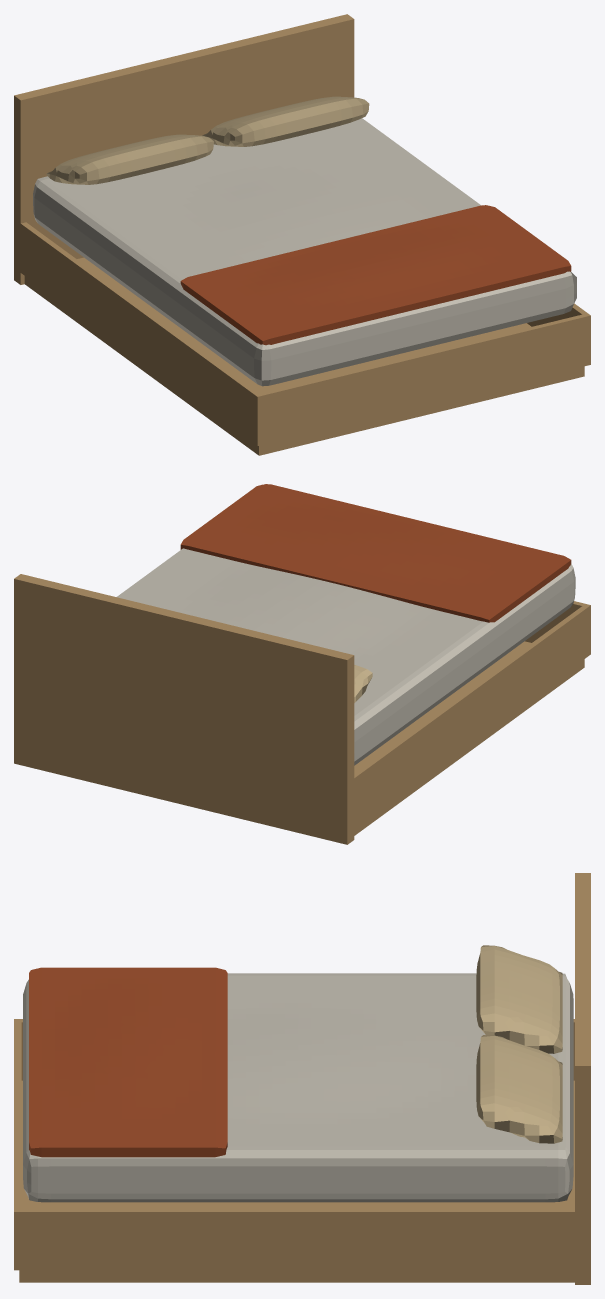
File: SAB-PLT-queen.glb
3 views of the same model, one above another, from view 1: azimuth 30°, elevation 25°; view 2: azimuth 150°, elevation 25°; view 3: azimuth 270°, elevation 25° (orthographic). The views are drawn at different scales.
Parts seen in each view (by area): view 1: mattress:pbr, head:pbr, throw:pbr, foot:pbr, rail-l:pbr, plinth:pbr, pillow-l:pbr, pillow-r:pbr, rail-r:pbr; view 2: head:pbr, mattress:pbr, throw:pbr, rail-l:pbr, plinth:pbr, pillow-l:pbr; view 3: mattress:pbr, throw:pbr, rail-r:pbr, plinth:pbr, pillow-r:pbr, pillow-l:pbr, head:pbr, foot:pbr.
Part boxes in pixels (x1,y1,x2,y2): mattress:pbr: (33,118,576,386); head:pbr: (14,14,354,284); throw:pbr: (180,205,571,345); foot:pbr: (260,314,585,444); rail-l:pbr: (20,222,262,445); plinth:pbr: (24,257,584,455); pillow-l:pbr: (46,134,213,184); pillow-r:pbr: (202,96,369,146); rail-r:pbr: (527,303,590,365); head:pbr: (14,574,354,844); mattress:pbr: (116,548,575,765); throw:pbr: (180,484,571,622); rail-l:pbr: (354,604,590,827); plinth:pbr: (354,641,584,835); pillow-l:pbr: (354,665,372,702); mattress:pbr: (23,973,573,1202); throw:pbr: (29,967,227,1157); rail-r:pbr: (14,1208,574,1270); plinth:pbr: (19,1080,574,1282); pillow-r:pbr: (476,1035,562,1143); pillow-l:pbr: (476,945,562,1053); head:pbr: (575,873,590,1284); foot:pbr: (14,1022,21,1208).
Bounding box in the file's own units: 1.7 × 0.9 × 2.15.
